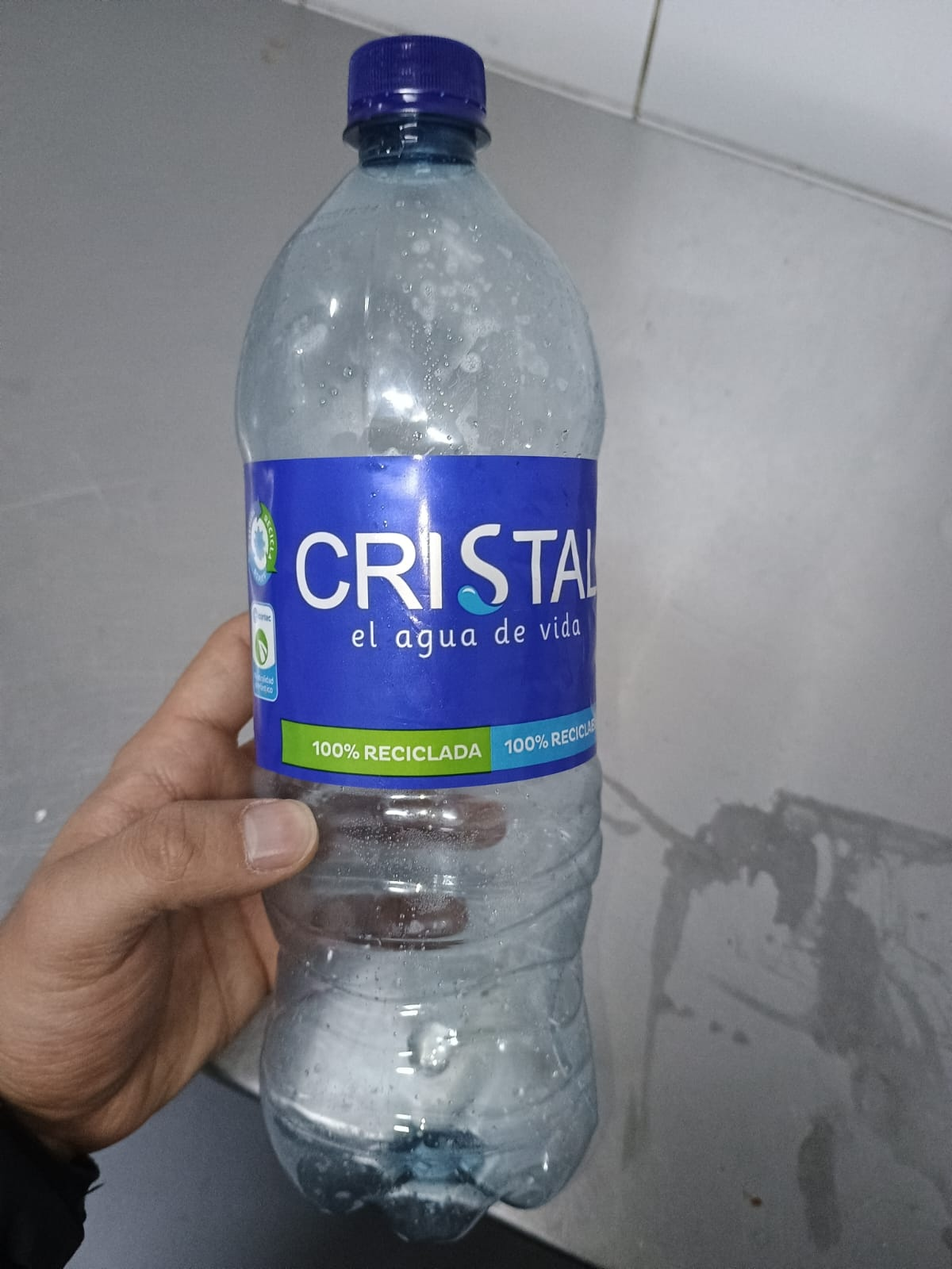Plastico: (234, 32, 605, 1250)
